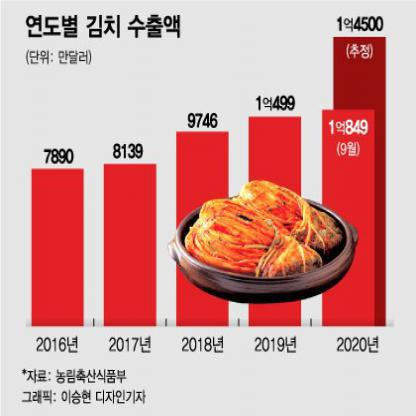kimchi: (189, 173, 340, 291)
